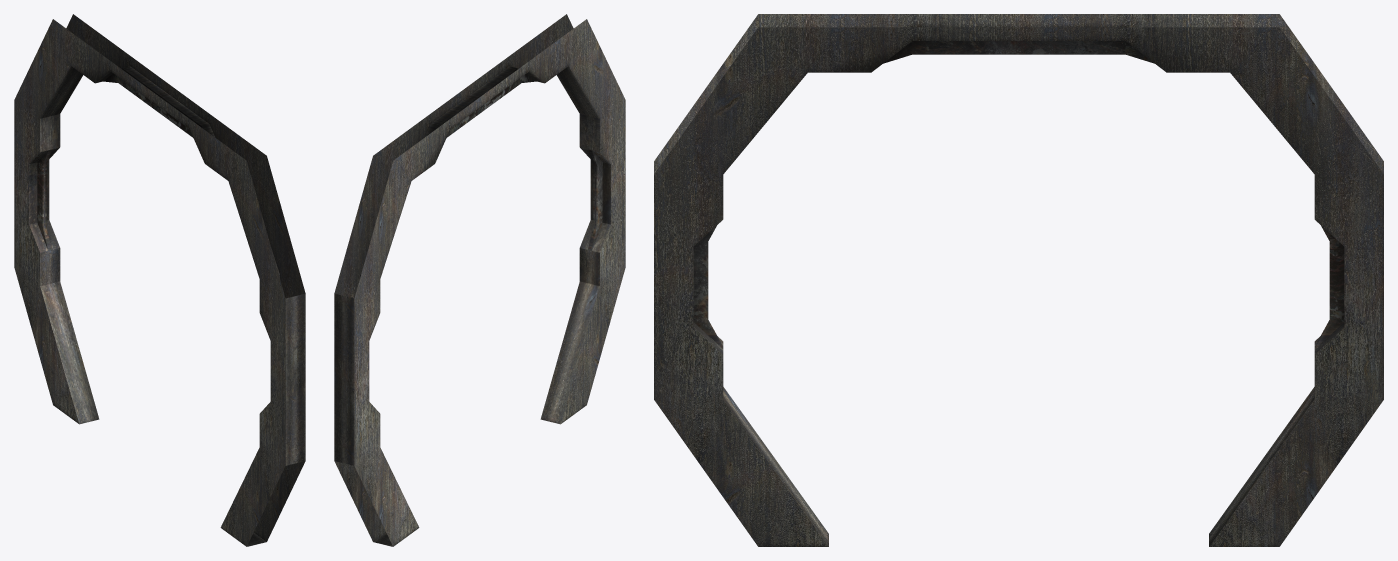
File: ARCH1.fbx
3 renders of one model, left to right at view 1: azimuth 30°, elevation 25°; view 2: azimuth 150°, elevation 25°; view 3: azimuth 270°, elevation 25°, orthographic. The views are drawn at different scales.
Visible parts, largest first — view 1: Cube_003; view 2: Cube_003; view 3: Cube_003.
Boxes of the visible parts, left/top/right/bottom form: Cube_003: left=14, top=14, right=305, bottom=546; Cube_003: left=334, top=14, right=625, bottom=546; Cube_003: left=654, top=14, right=1383, bottom=546.
Bounding box in the file's own units: 0.12 × 2.2 × 2.8.
